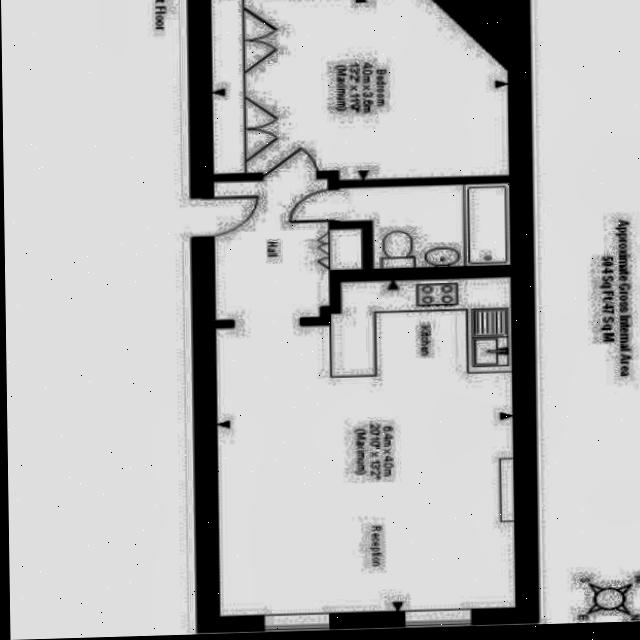room: (216, 279, 520, 614), (212, 0, 507, 180), (210, 178, 328, 319), (370, 184, 509, 269), (329, 229, 361, 269)
